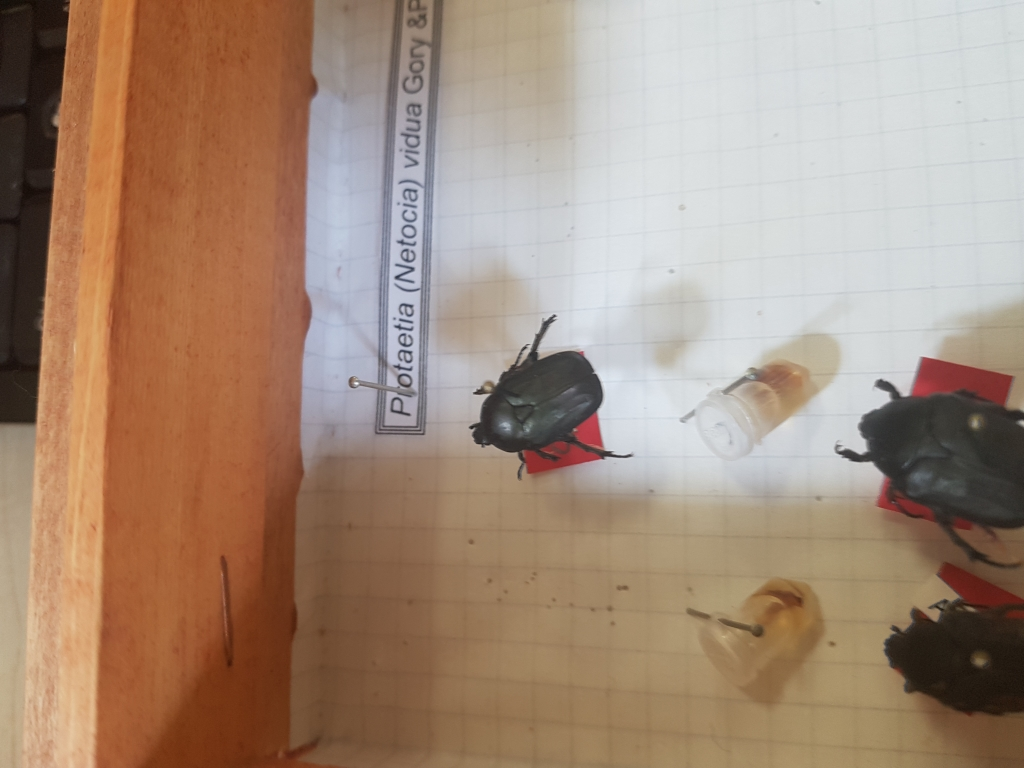Protaetia_vidua: (465, 312, 628, 468)
